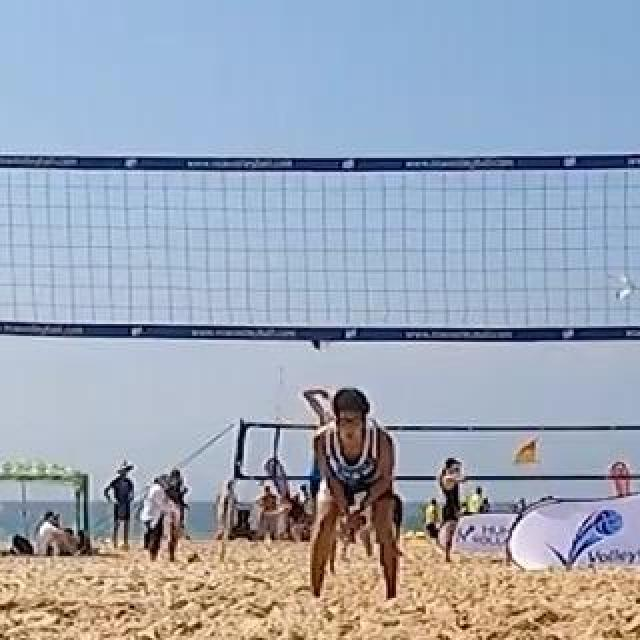volleyball: (309, 331, 331, 351)
